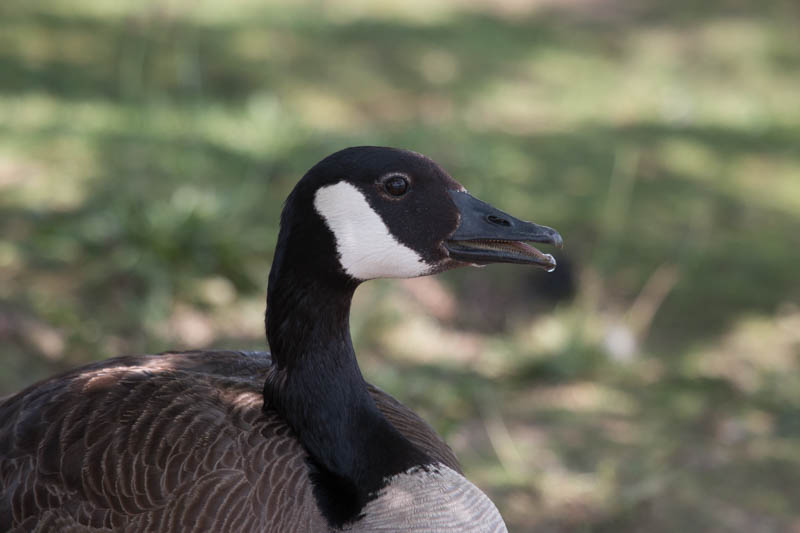goose-head: (268, 145, 563, 281)
